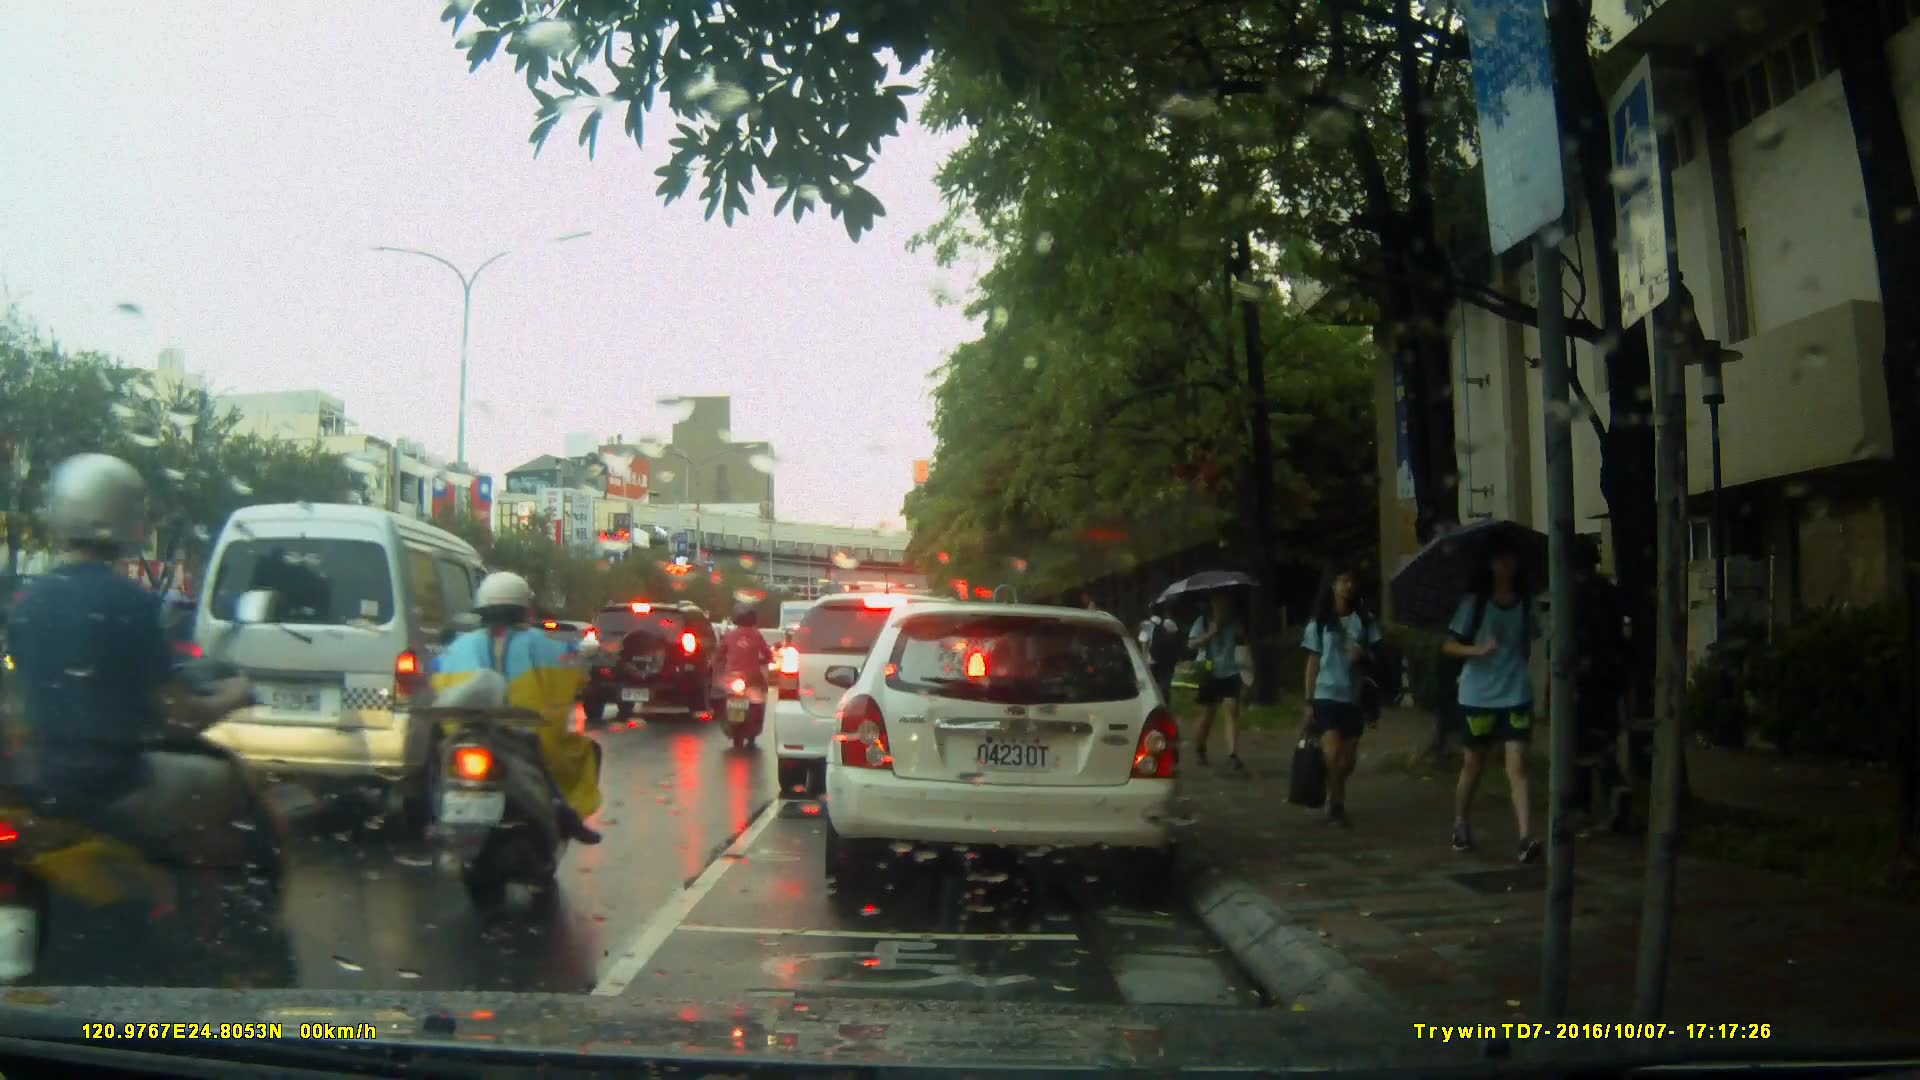pedestrian: (1417, 531, 1557, 870), (1542, 528, 1651, 859), (1288, 557, 1385, 837), (1178, 579, 1249, 779)
rider: (3, 458, 294, 1059), (421, 568, 605, 923), (714, 601, 775, 748)
vehicle: (815, 593, 1204, 909), (176, 500, 512, 844), (770, 590, 994, 802), (576, 603, 737, 726)
